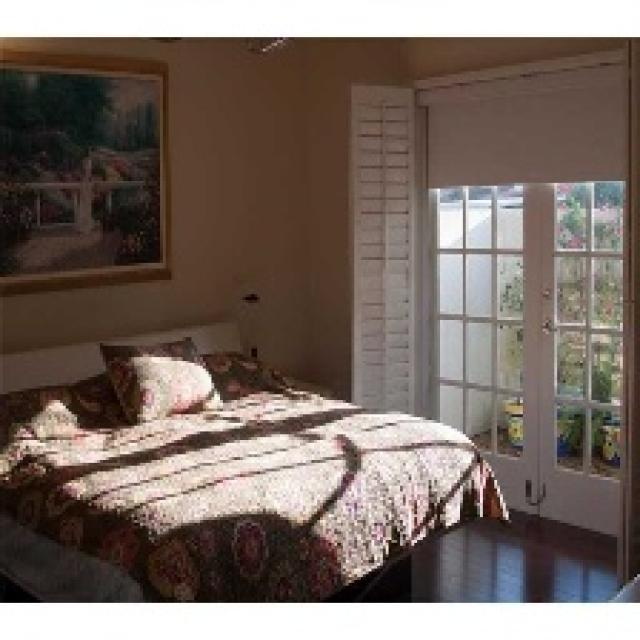Bed: (0, 314, 509, 600)
